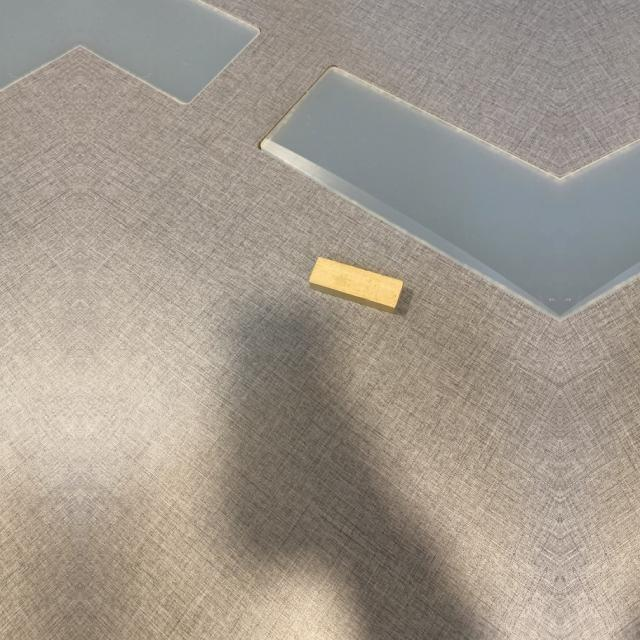jenga: (308, 257, 403, 314)
